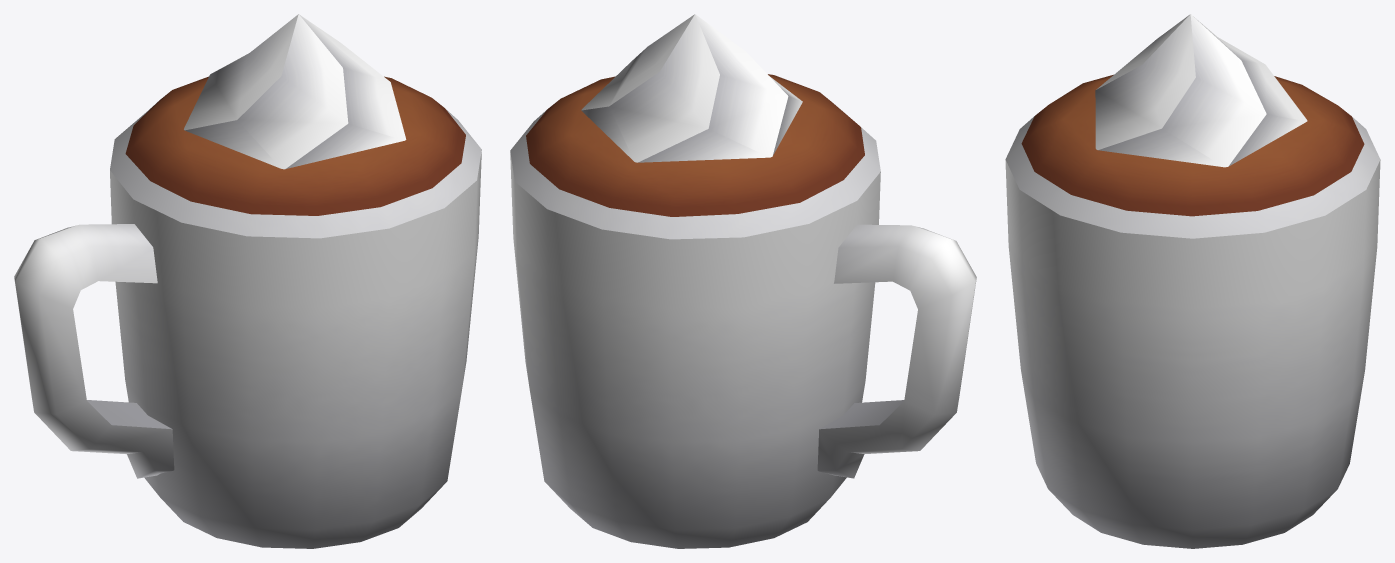
The model's file is m_Mug01_Choco04.fbx.
3 views of the same model, side by side, from view 1: azimuth 30°, elevation 25°; view 2: azimuth 150°, elevation 25°; view 3: azimuth 270°, elevation 25° (orthographic).
Visible parts, largest first — view 1: m_Mug01_Choco04; view 2: m_Mug01_Choco04; view 3: m_Mug01_Choco04.
Part boxes in pixels (x1=…): m_Mug01_Choco04: x1=14, y1=14, x2=481, y2=548; m_Mug01_Choco04: x1=510, y1=14, x2=976, y2=548; m_Mug01_Choco04: x1=1005, y1=14, x2=1380, y2=548.
Bounding box in the file's own units: 15.22 × 15.79 × 11.16.
